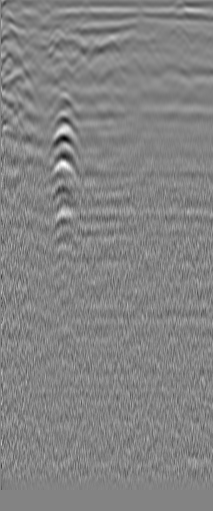오수: (44, 22, 64, 42)
우수: (166, 22, 186, 42)
